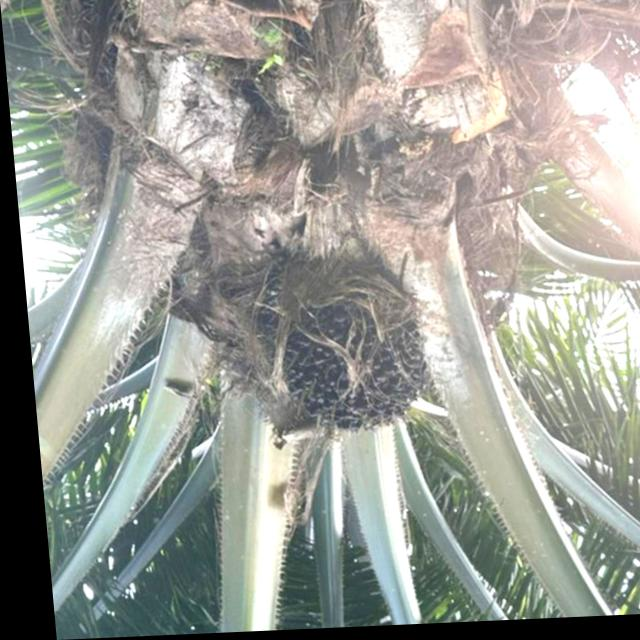unripe: (228, 254, 429, 449)
